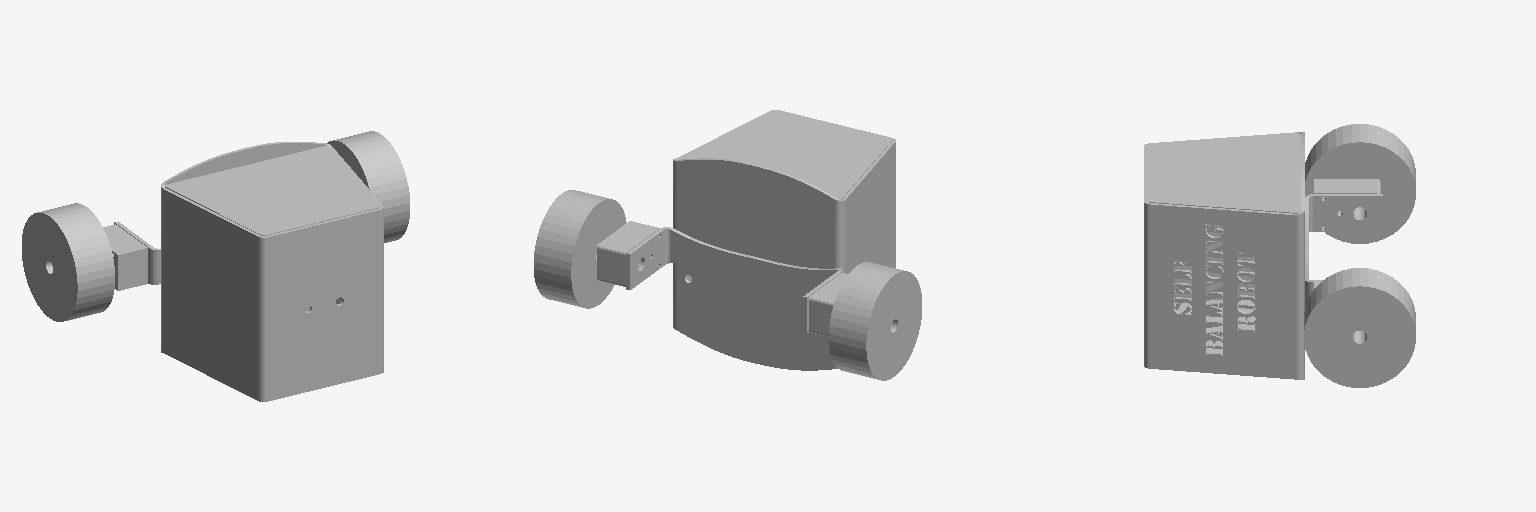
File: main body v1.obj
3 renders of one model, left to right at view 1: azimuth 30°, elevation 25°; view 2: azimuth 150°, elevation 25°; view 3: azimuth 270°, elevation 25°, orthographic.
Visible parts, largest first — view 1: Body1, Body1:4, Body2, Body2:1, Body1:2, Body1:1; view 2: Body1, Body1:4, Body2, Body2:1, Body1:1, Body1:5, Body1:2; view 3: Body1, Body2:1, Body1:4, Body2, Body1:1, Body1:2, Body1:3.
Part boxes in pixels (left/top/right/bottom): Body1: left=161, top=142, right=383, bottom=401; Body1:4: left=165, top=146, right=380, bottom=235; Body2: left=22, top=203, right=114, bottom=321; Body2:1: left=327, top=131, right=409, bottom=242; Body1:2: left=103, top=224, right=147, bottom=290; Body1:1: left=114, top=222, right=160, bottom=284; Body1: left=673, top=110, right=895, bottom=370; Body1:4: left=677, top=111, right=892, bottom=199; Body2: left=829, top=262, right=921, bottom=380; Body2:1: left=534, top=190, right=626, bottom=308; Body1:1: left=626, top=227, right=842, bottom=333; Body1:5: left=597, top=221, right=659, bottom=286; Body1:2: left=809, top=273, right=847, bottom=336; Body1: left=1144, top=132, right=1304, bottom=379; Body2:1: left=1304, top=268, right=1415, bottom=387; Body1:4: left=1148, top=133, right=1300, bottom=213; Body2: left=1305, top=124, right=1415, bottom=243; Body1:1: left=1305, top=194, right=1382, bottom=306; Body1:2: left=1314, top=179, right=1380, bottom=228; Body1:3: left=1174, top=300, right=1255, bottom=352.
Bounding box in the file's own units: 21.2 × 12 × 15.